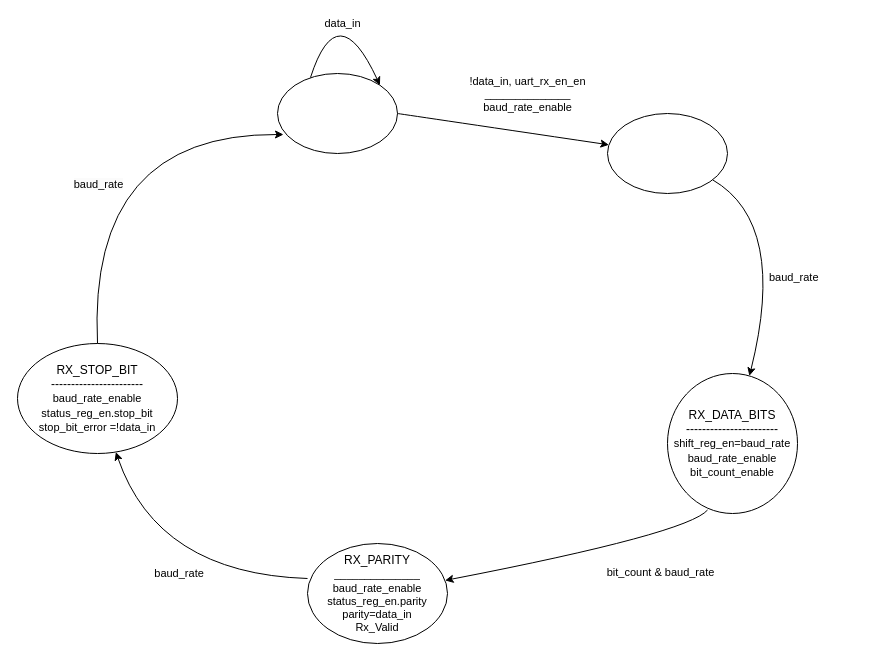
Some shapes in this 885 by 661 pixel diagram are drawn without their labels. The shapes that lost their labels are listed below. From the top down, each one's centre as x and y in pixels, then its label:
At point 337,113: "RX_IDEAL".
At point 667,153: "RX_START_BIT ----------------------- baud_rate_enable".
